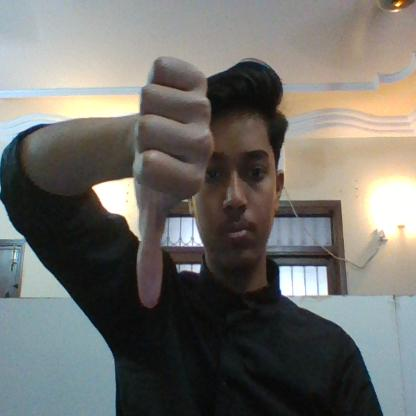thumbs-down: (124, 55, 218, 309)
